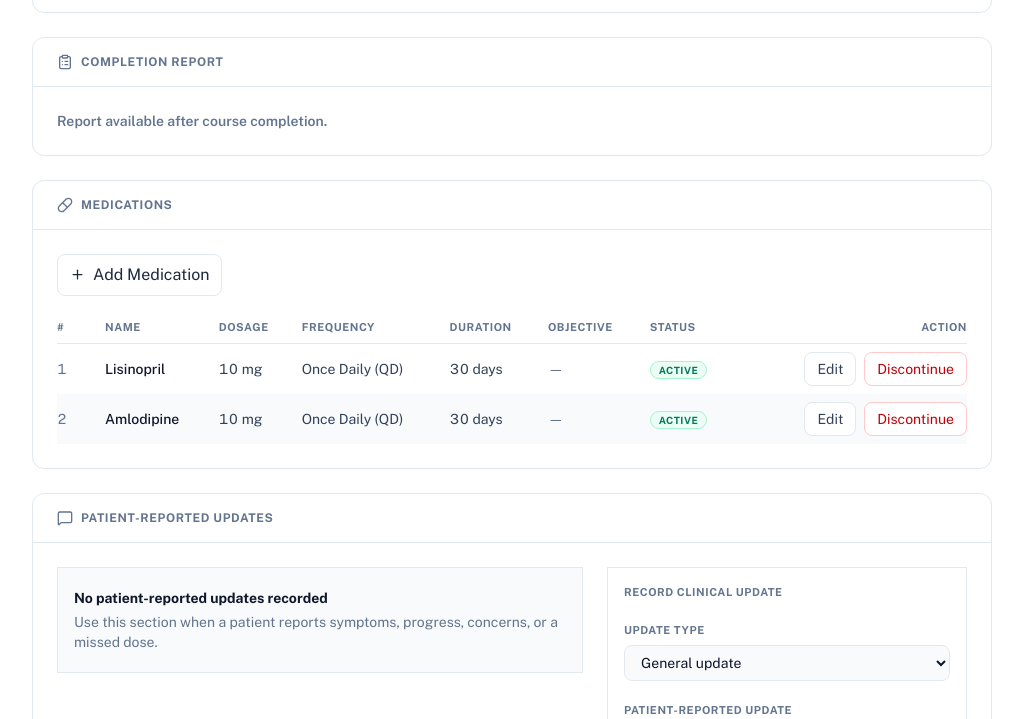
Test: TreatmentDetailPage › lets the pharmacist discontinue a medication before cycle start
(page scrolled)
Click the button "Discontinue" in the row of "Lisinopril". click: coordinates (916, 369)
box: left=864, top=352, right=967, bottom=386
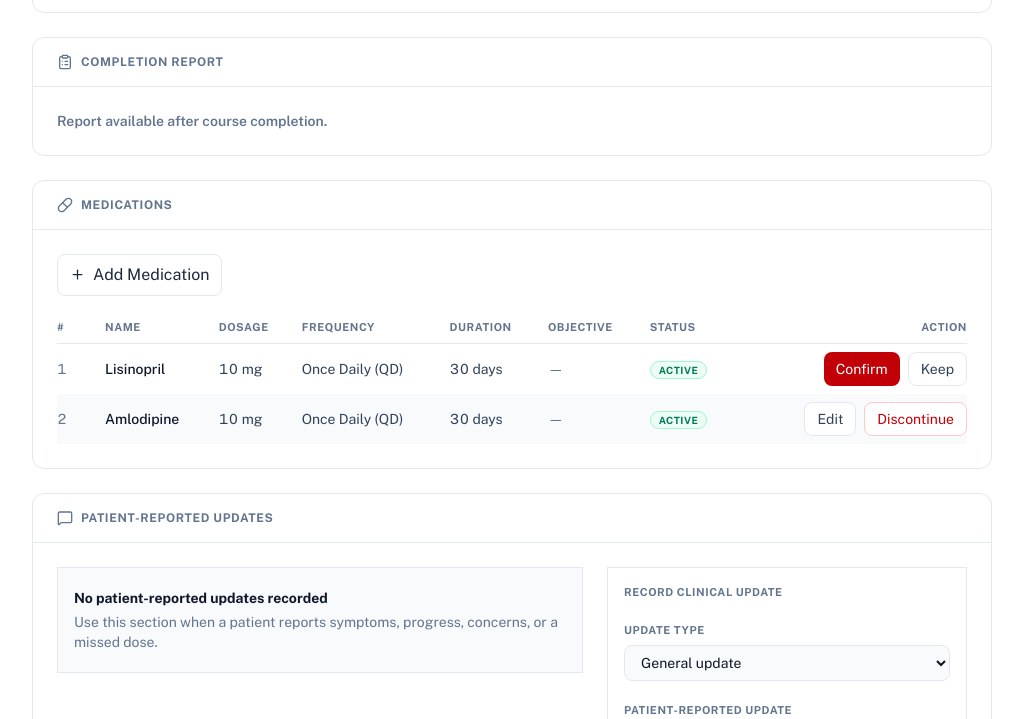
Click the button "Confirm". click: coordinates (862, 369)
box: left=824, top=352, right=900, bottom=386
(page scrolled)
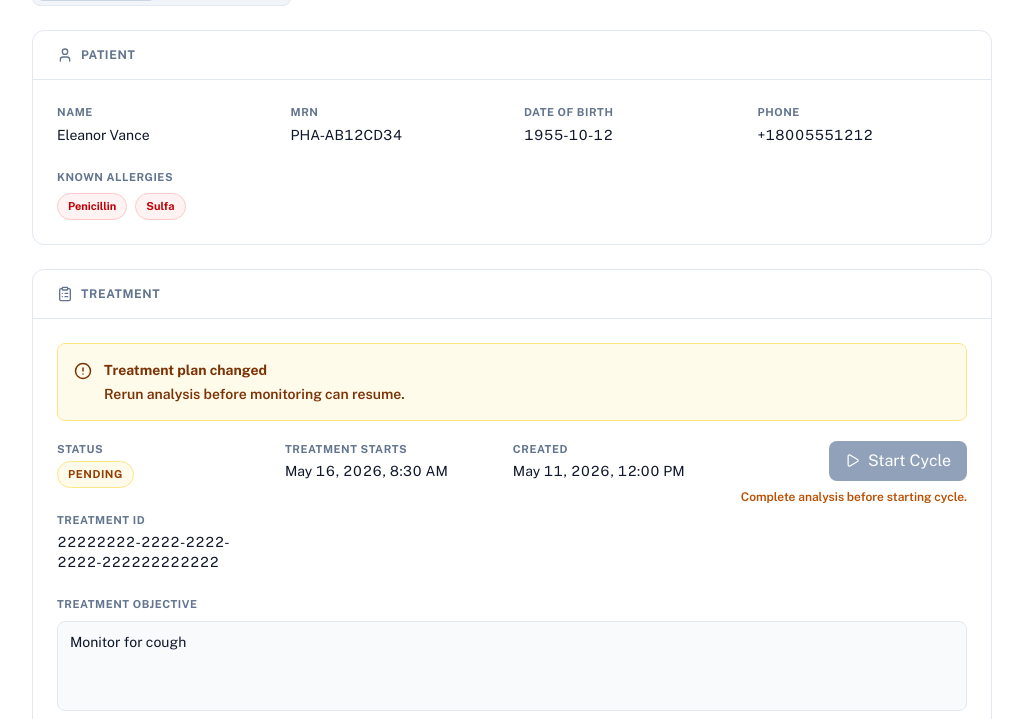
Expected: the text "Treatment plan changed" is shown, left=104, top=362, right=267, bottom=378
